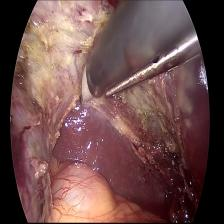Grasper: (104, 35, 190, 103)
Hook: (74, 61, 94, 117)
